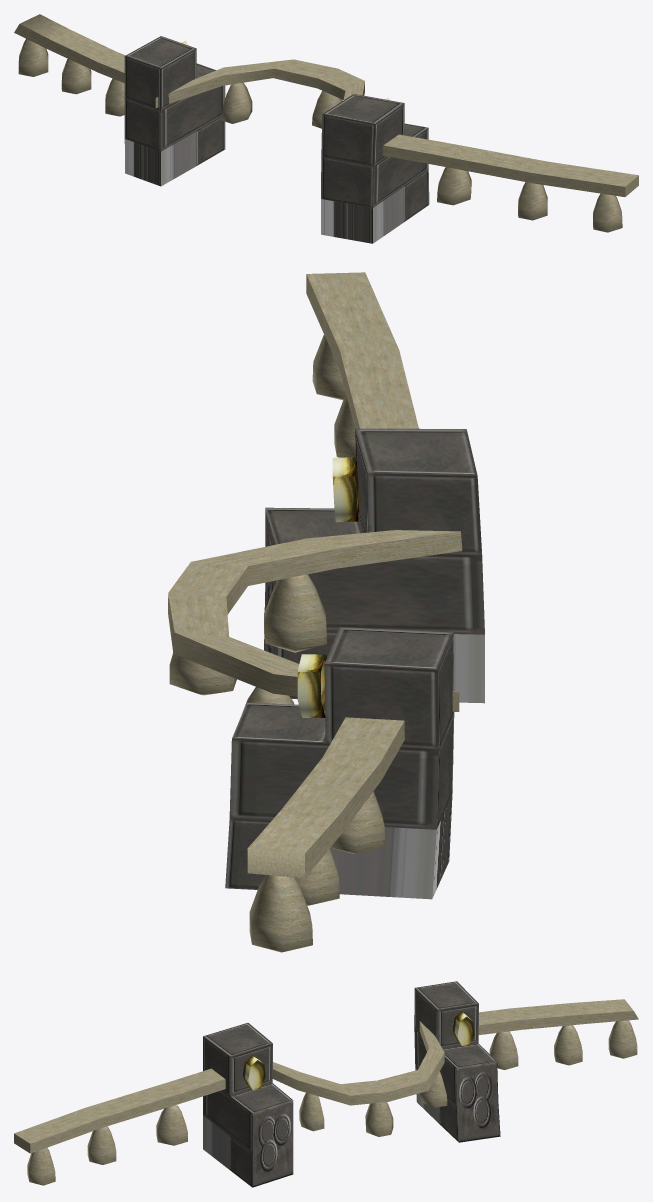
The model's file is CH09_SMAUG_PLAYSURFACE_LAIR15.fbx.
3 renders of one model, top to bottom at view 1: azimuth 30°, elevation 25°; view 2: azimuth 150°, elevation 25°; view 3: azimuth 270°, elevation 25°, orthographic. The views are drawn at different scales.
Parts seen in each view (by area): view 1: CH09_SMAUG_PLAYSURFACE_LAIR15; view 2: CH09_SMAUG_PLAYSURFACE_LAIR15; view 3: CH09_SMAUG_PLAYSURFACE_LAIR15.
Boxes of the visible parts, x1=… form: CH09_SMAUG_PLAYSURFACE_LAIR15: x1=14, y1=14, x2=638, y2=243; CH09_SMAUG_PLAYSURFACE_LAIR15: x1=168, y1=272, x2=484, y2=952; CH09_SMAUG_PLAYSURFACE_LAIR15: x1=14, y1=981, x2=638, y2=1187.
Bounding box in the file's own units: 63794 × 23218 × 115428.
3 materials, 3 textured.
